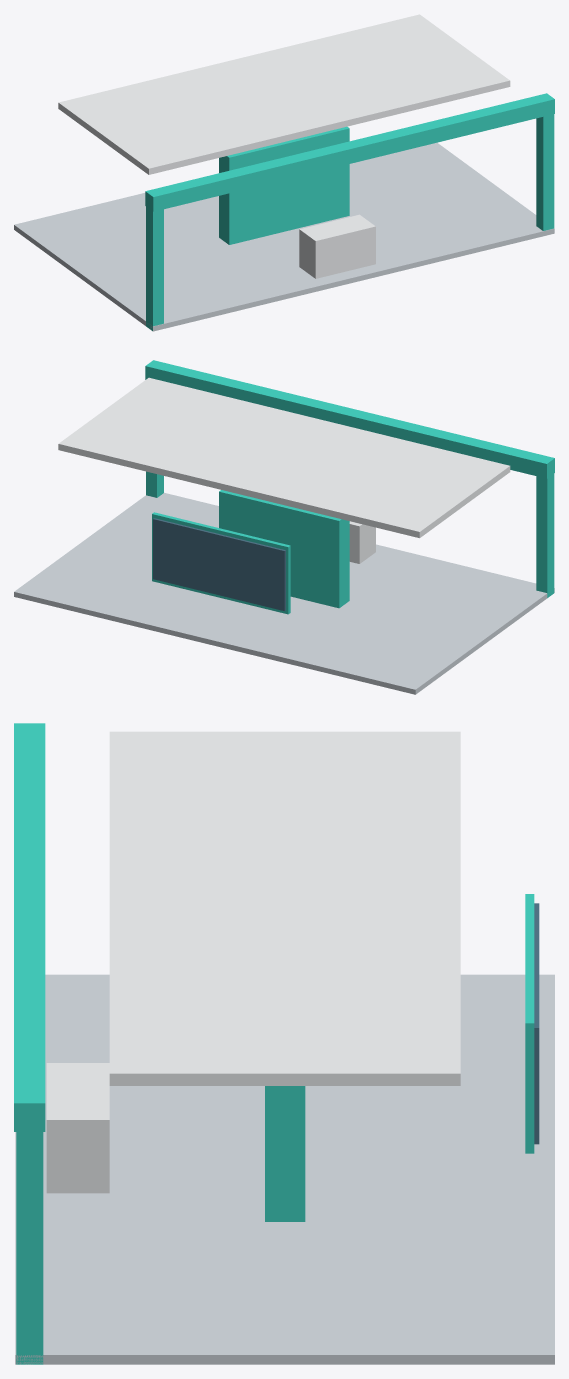
3 views of the same model, one above another, from view 1: azimuth 30°, elevation 25°; view 2: azimuth 150°, elevation 25°; view 3: azimuth 270°, elevation 25° (orthographic). The views are drawn at different scales.
Visible parts, largest first — view 1: Exhibition Booth Concept; view 2: Exhibition Booth Concept; view 3: Exhibition Booth Concept.
Part boxes in pixels (x1,y1,x2,y2): Exhibition Booth Concept: (14, 14, 554, 331); Exhibition Booth Concept: (14, 360, 554, 694); Exhibition Booth Concept: (14, 723, 554, 1364).
Bounding box in the file's own units: 10 × 3.34 × 6.02.
